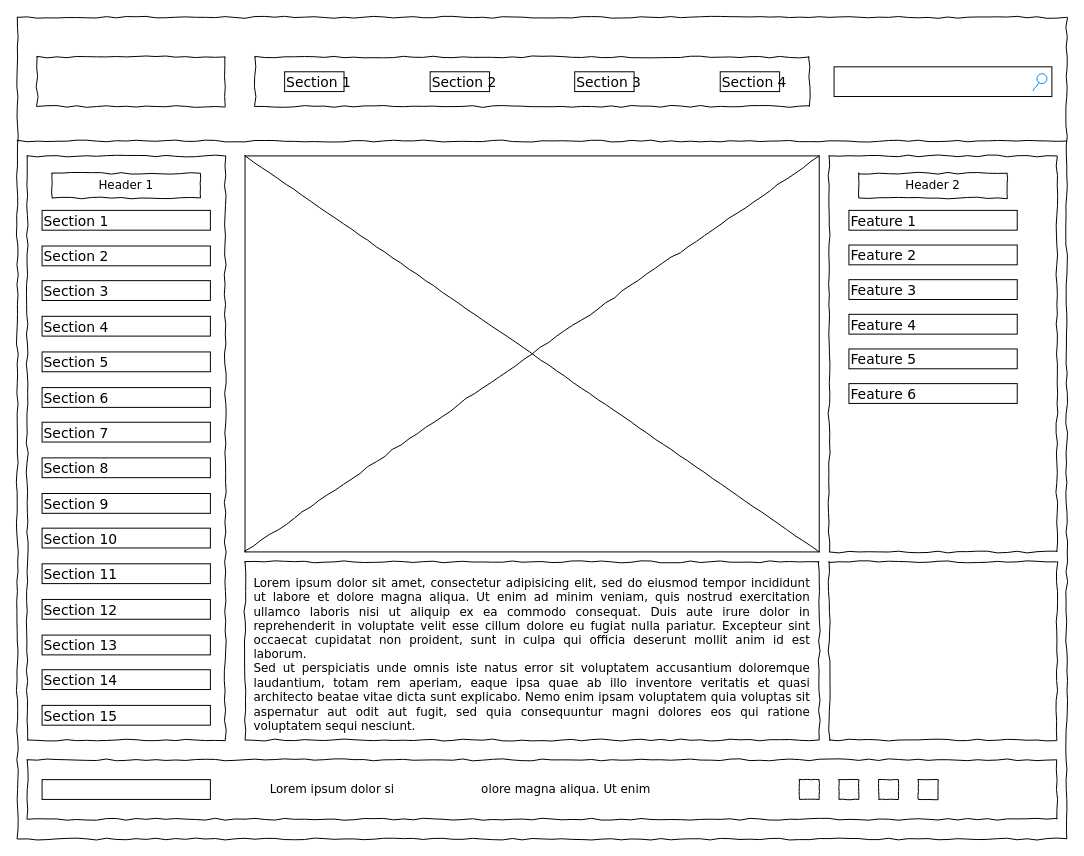
The diagram is 1084 pixels wide and 856 high, and some of its shapes have lost their labels. The shapes that lost their labels are listed below. From the top down, each one's centre as x and y in pixels, then its label:
At [130,81]: "LOGO".
At [942,81]: "Search".
At [125,789]: "External Links".
